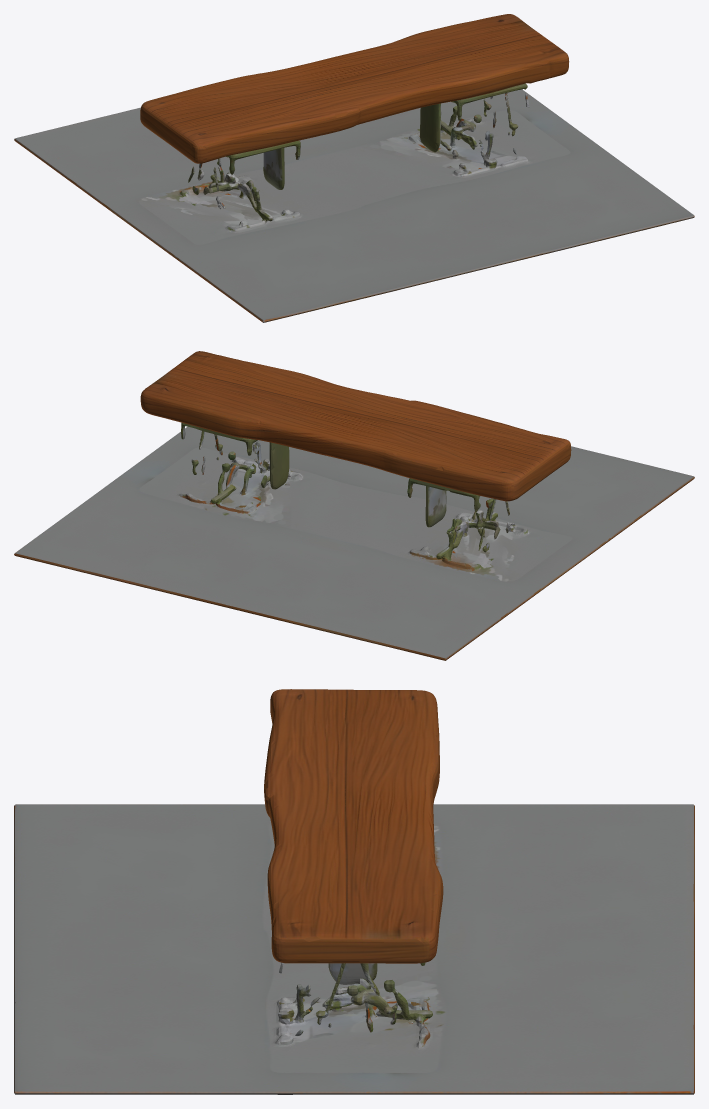
File: bench.glb
3 views of the same model, one above another, from view 1: azimuth 30°, elevation 25°; view 2: azimuth 150°, elevation 25°; view 3: azimuth 270°, elevation 25° (orthographic). The views are drawn at different scales.
Parts seen in each view (by area): view 1: textured_mesh.obj; view 2: textured_mesh.obj; view 3: textured_mesh.obj.
Part boxes in pixels (box(x1,y1,x2,y2)): textured_mesh.obj: box(14, 14, 694, 322); textured_mesh.obj: box(14, 351, 694, 660); textured_mesh.obj: box(14, 689, 694, 1094).
Size of the model in its own units: 1.99 by 0.4535 by 1.99.
1 material, 1 textured.
